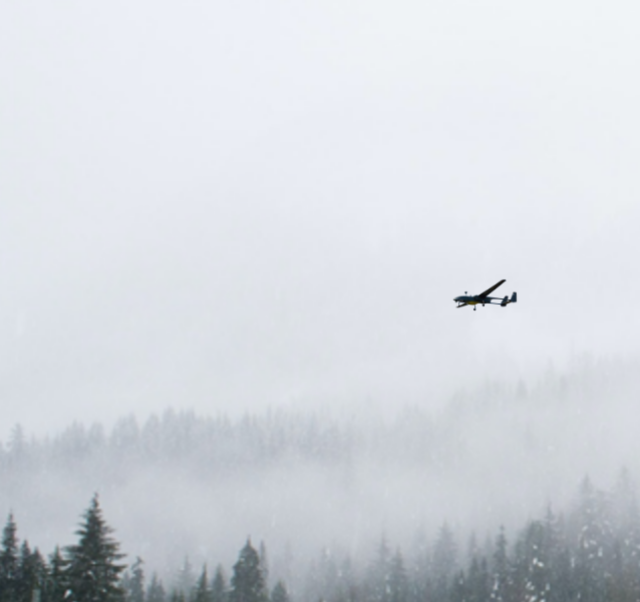military drone: (452, 278, 517, 311)
